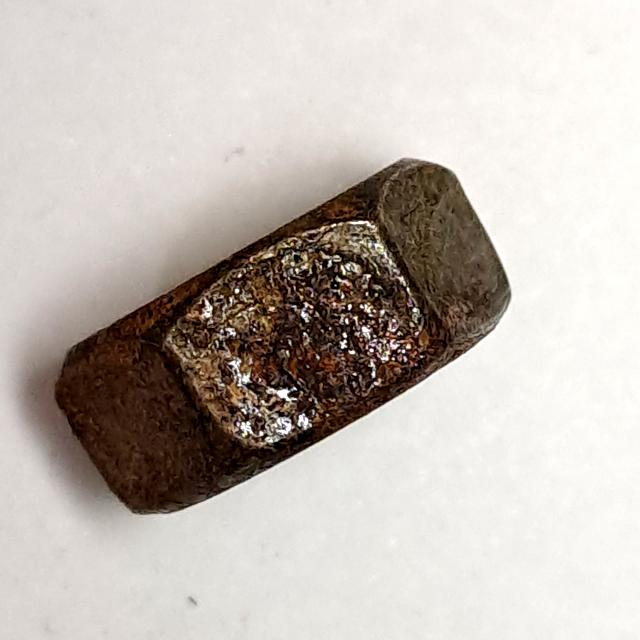Side_Rust: (32, 143, 536, 545)
